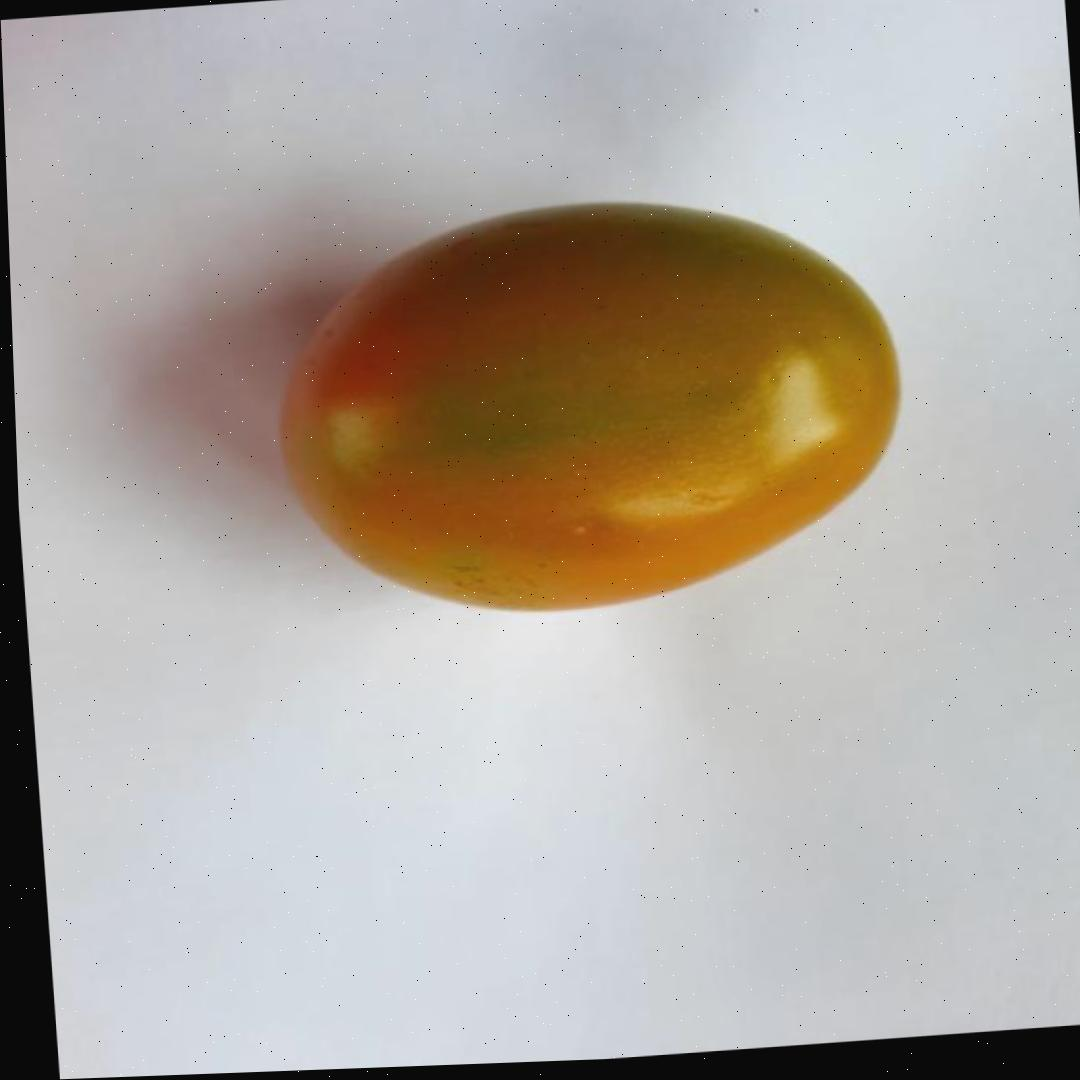setengah_matang: (253, 172, 924, 636)
